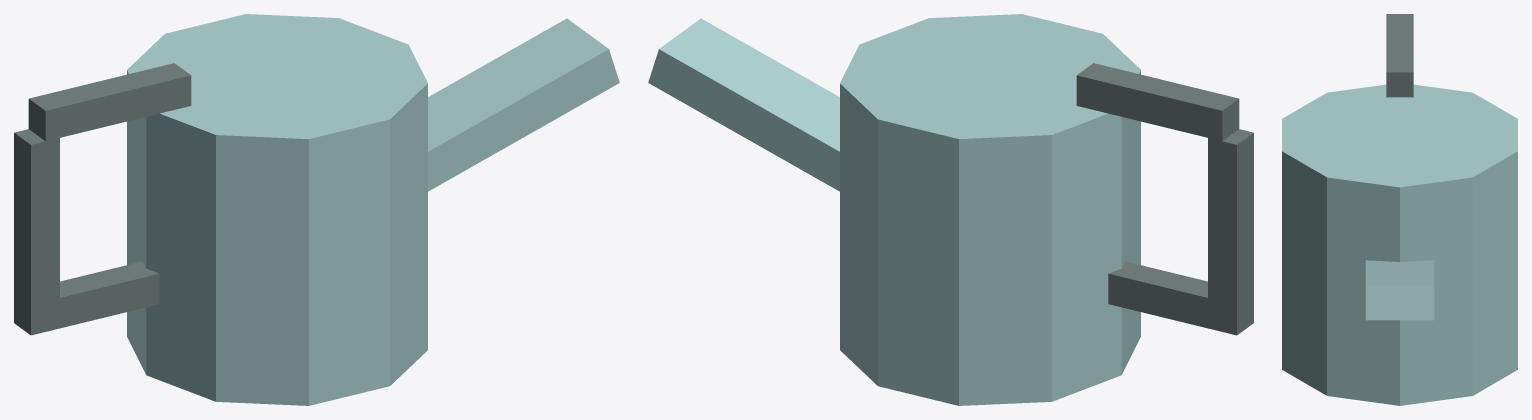
The model's file is cozy-farm-and-homestead-watering-can-0c725436__19400.glb.
3 renders of one model, left to right at view 1: azimuth 30°, elevation 25°; view 2: azimuth 150°, elevation 25°; view 3: azimuth 270°, elevation 25°, orthographic. The views are drawn at different scales.
Visible parts, largest first — view 1: watering-can; view 2: watering-can; view 3: watering-can.
Part boxes in pixels (box(x1,y1,x2,y2)): watering-can: box(14, 14, 619, 405); watering-can: box(648, 14, 1253, 405); watering-can: box(1282, 14, 1517, 405).
Size of the model in its own units: 0.7911 by 0.39 by 0.3424.
